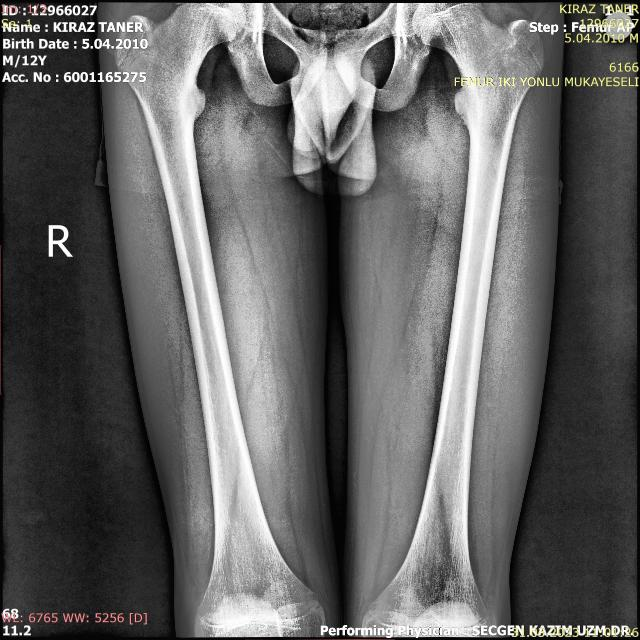Not_Fracture: (87, 2, 575, 640)
